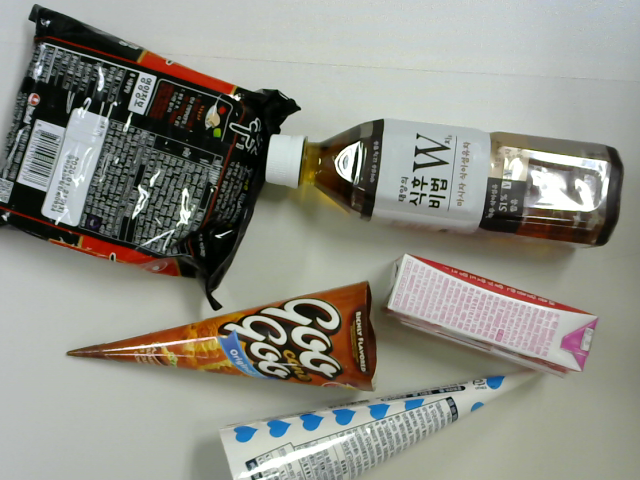Bravo_Cone_(Banila)_CVS: (223, 366, 548, 480)
GooGoo_Cone_CVS: (63, 282, 378, 398)
Post-meal_recipe_W_tea_500ml: (261, 121, 612, 250)
Sinramen_Black: (5, 21, 290, 295)
Strawberry_E_Mong: (380, 247, 590, 383)
